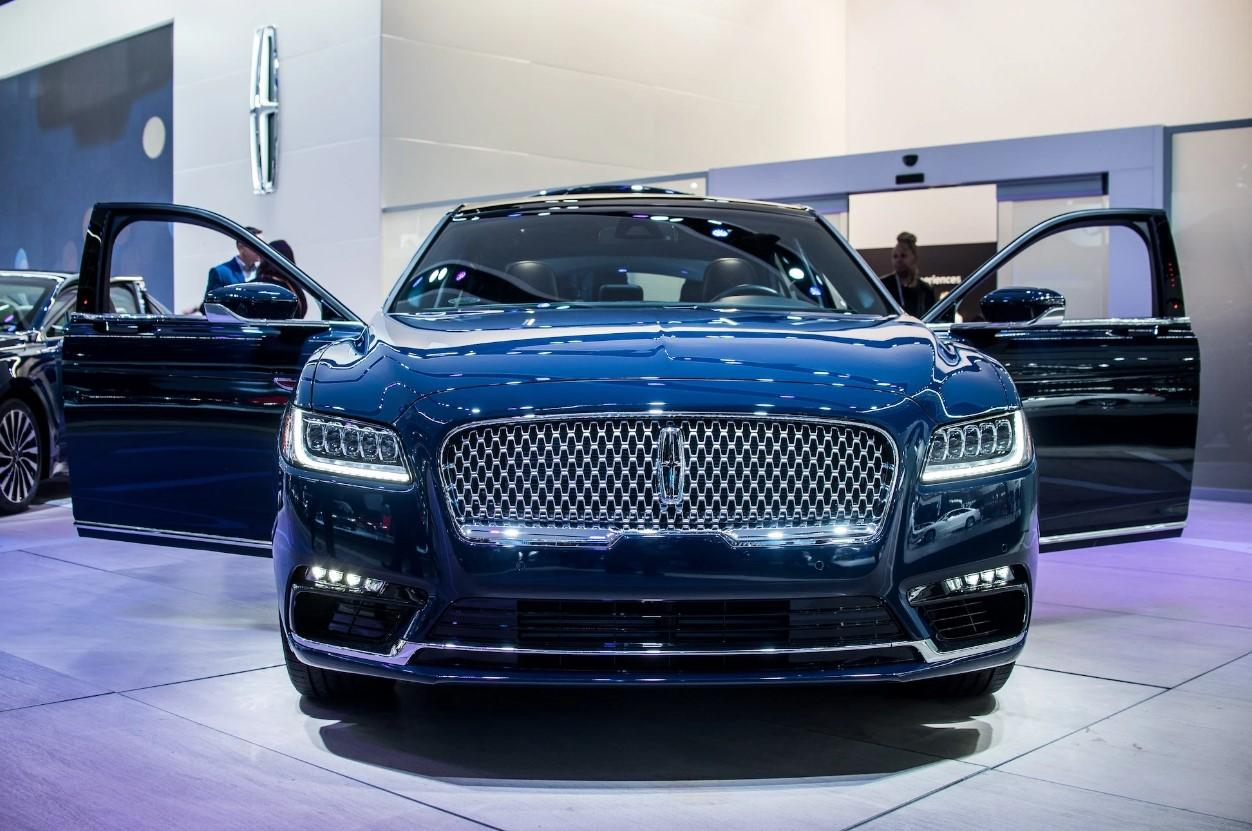lincoln: (644, 417, 697, 521)
